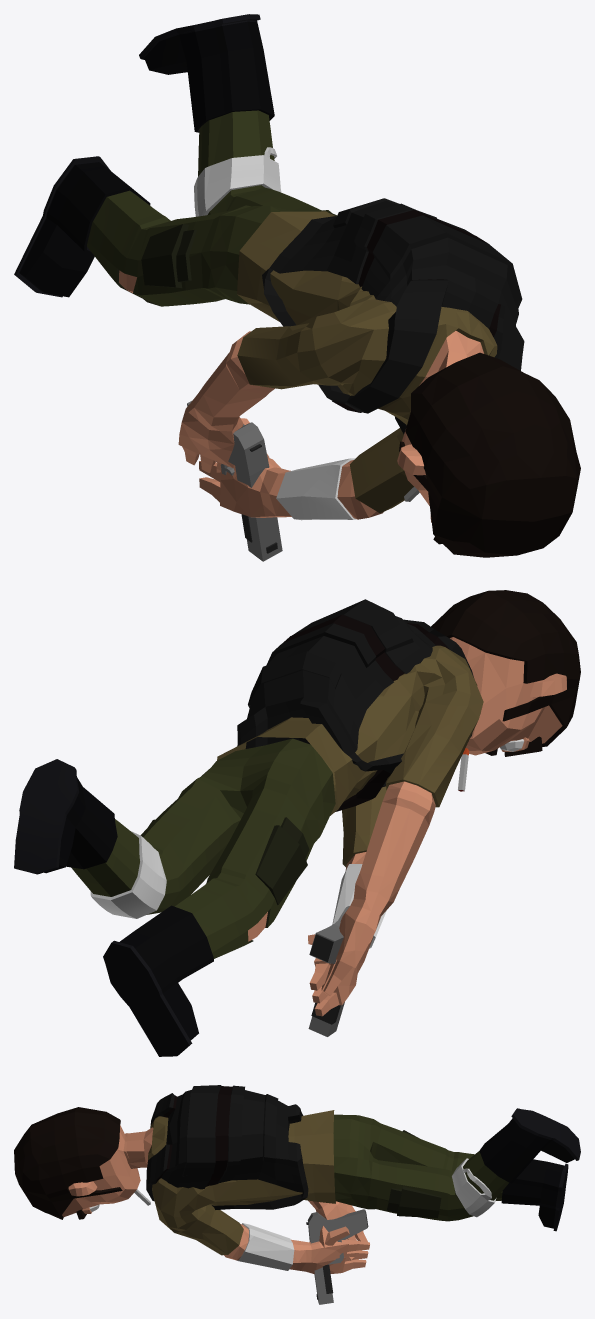
The model's file is frame_0072.obj.
3 views of the same model, one above another, from view 1: azimuth 30°, elevation 25°; view 2: azimuth 150°, elevation 25°; view 3: azimuth 270°, elevation 25° (orthographic). The views are drawn at different scales.
Visible parts, largest first — view 1: Body, Gun; view 2: Body, Gun; view 3: Body, Gun.
Boxes of the visible parts, x1,y1,x2,y2 form: Body: (14,14,580,557); Gun: (187,400,282,561); Body: (14,590,580,1056); Gun: (308,906,349,1036); Body: (14,1085,580,1274); Gun: (306,1209,368,1304).
Size of the model in its own units: 1.22 by 1.9 by 4.22.
